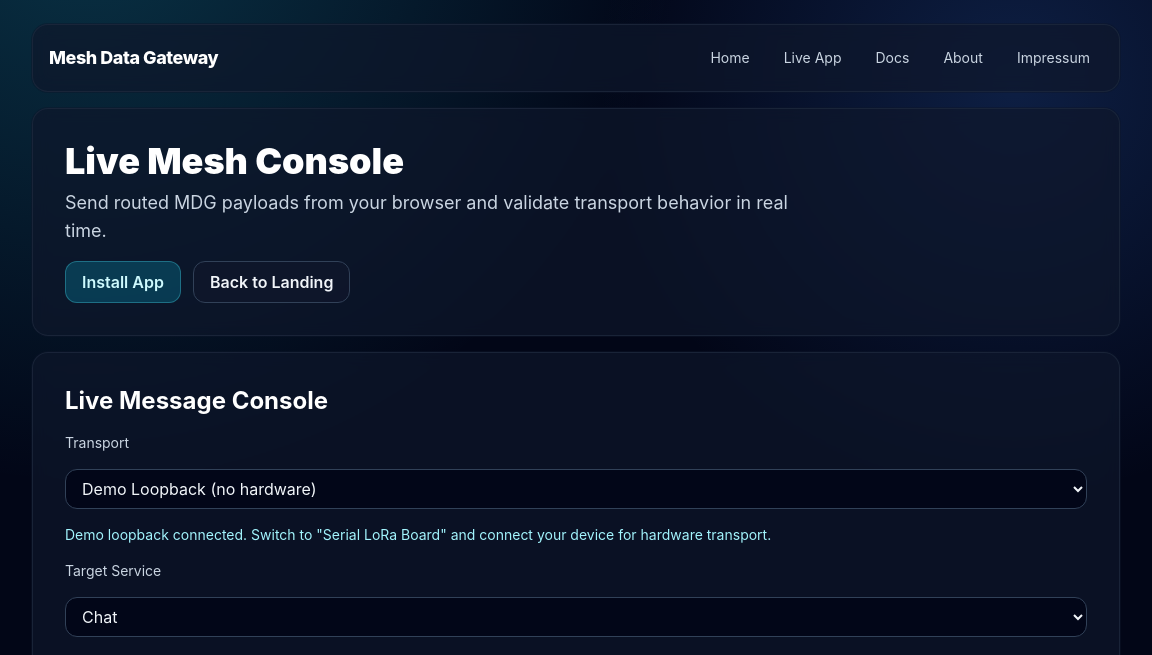
Test: App › shows explicit serial connect error message when Error is thrown
The image size is (1152, 655).
Select "Serial LoRa Board" in the dropdown labelled "Transport" at (576, 489), box [65,469,1087,509]
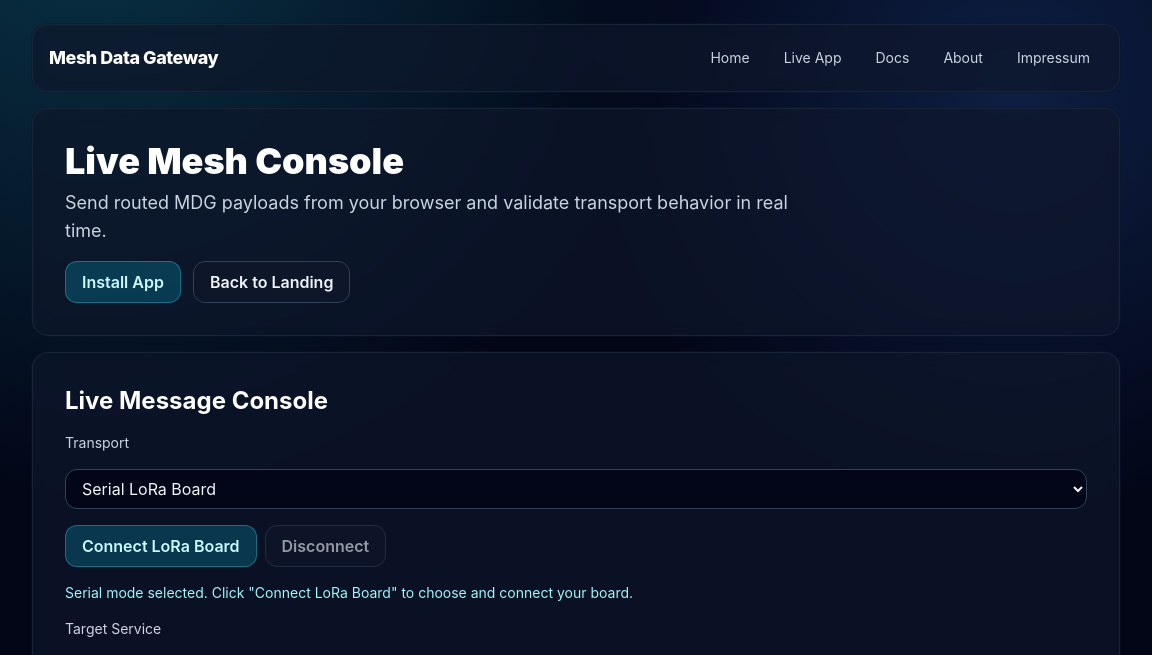
expect the text "Serial mode selected. Click \"Connect LoRa Board\"" is shown: met, box [65,584,633,601]
Click the button "Connect LoRa Board" at (161, 546), box [65,525,257,567]
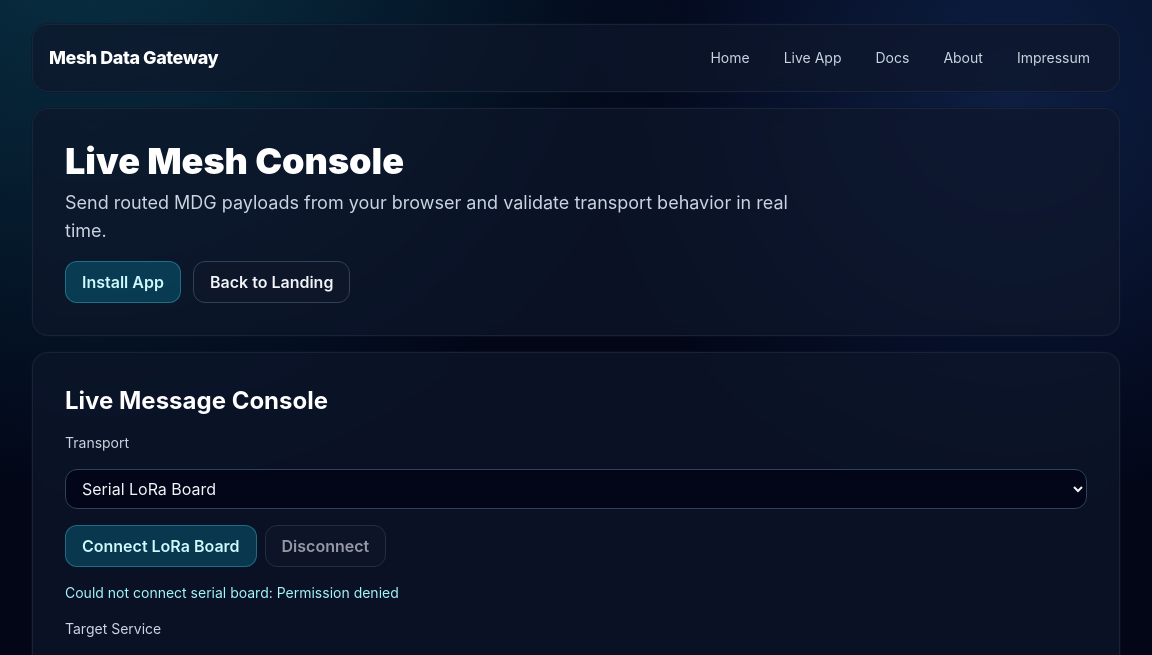
expect the text "Could not connect serial board: Permission denied" is shown: met, box [65,584,399,601]
